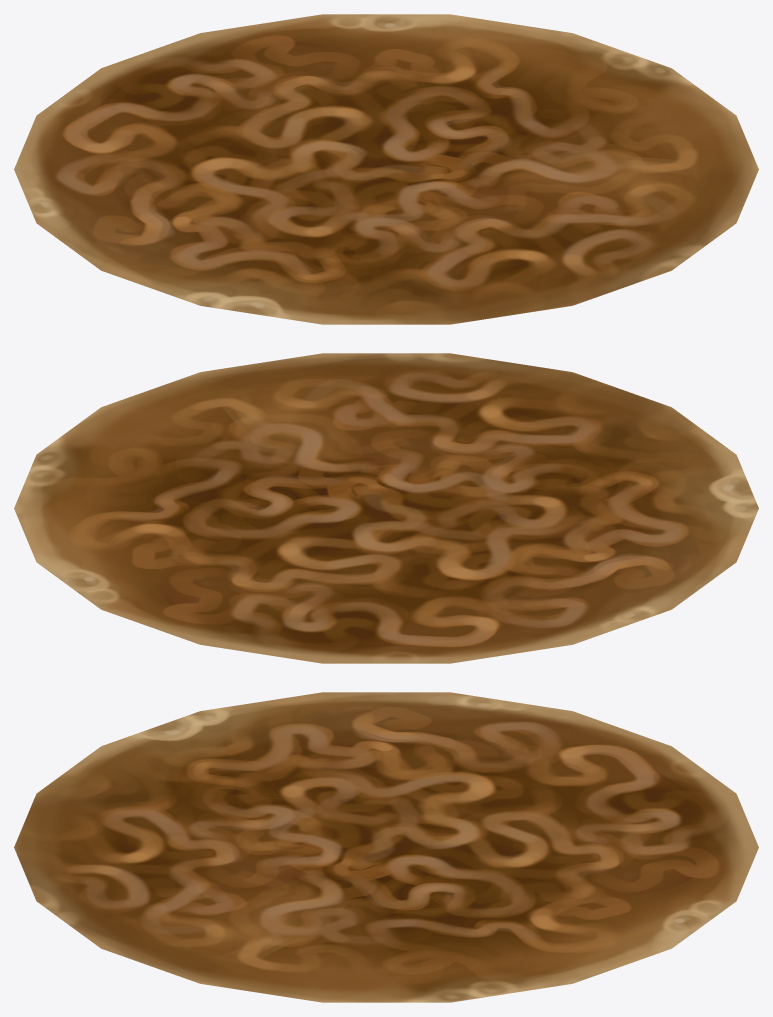
Rendered from Ramen_Shoyu_02_Free.FBX.
3 views of the same model, one above another, from view 1: azimuth 30°, elevation 25°; view 2: azimuth 150°, elevation 25°; view 3: azimuth 270°, elevation 25° (orthographic).
Parts seen in each view (by area): view 1: Ramen_Shoyu_02_Free; view 2: Ramen_Shoyu_02_Free; view 3: Ramen_Shoyu_02_Free.
Part boxes in pixels (x1,y1,x2,y2): Ramen_Shoyu_02_Free: (14,14,758,324); Ramen_Shoyu_02_Free: (14,353,758,663); Ramen_Shoyu_02_Free: (14,692,758,1002).
Size of the model in its own units: 69.68 by 0.00272 by 70.75.
